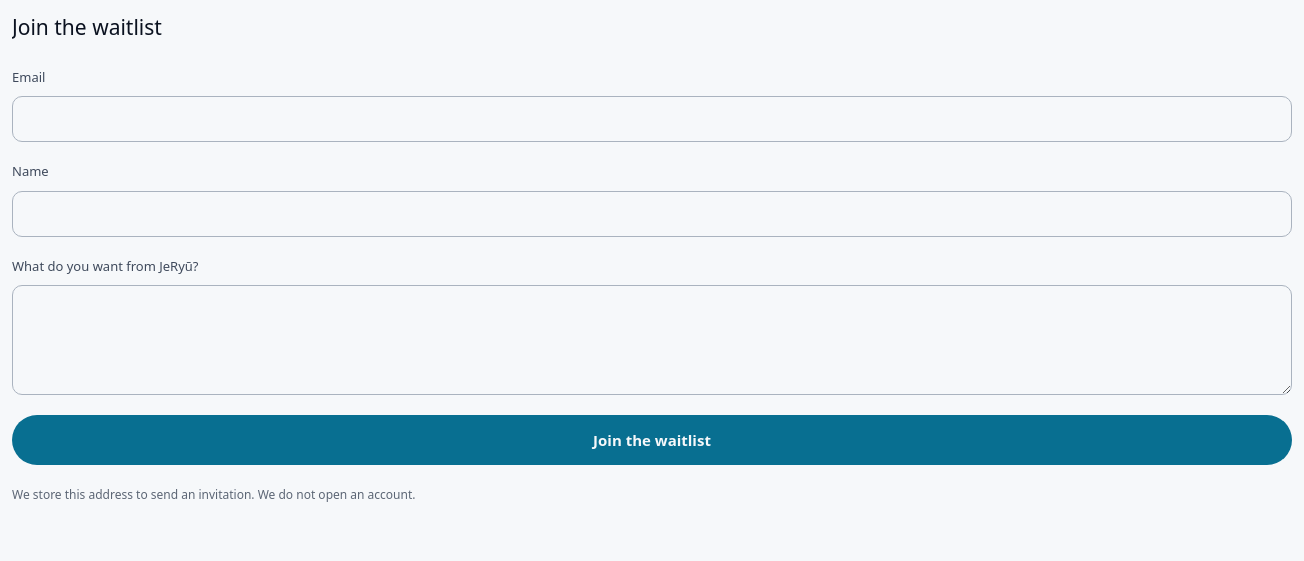
Scenario: WaitlistForm › does not post an empty email
Click the button "Join the waitlist".
click(652, 440)  # box left=12, top=415, right=1292, bottom=465
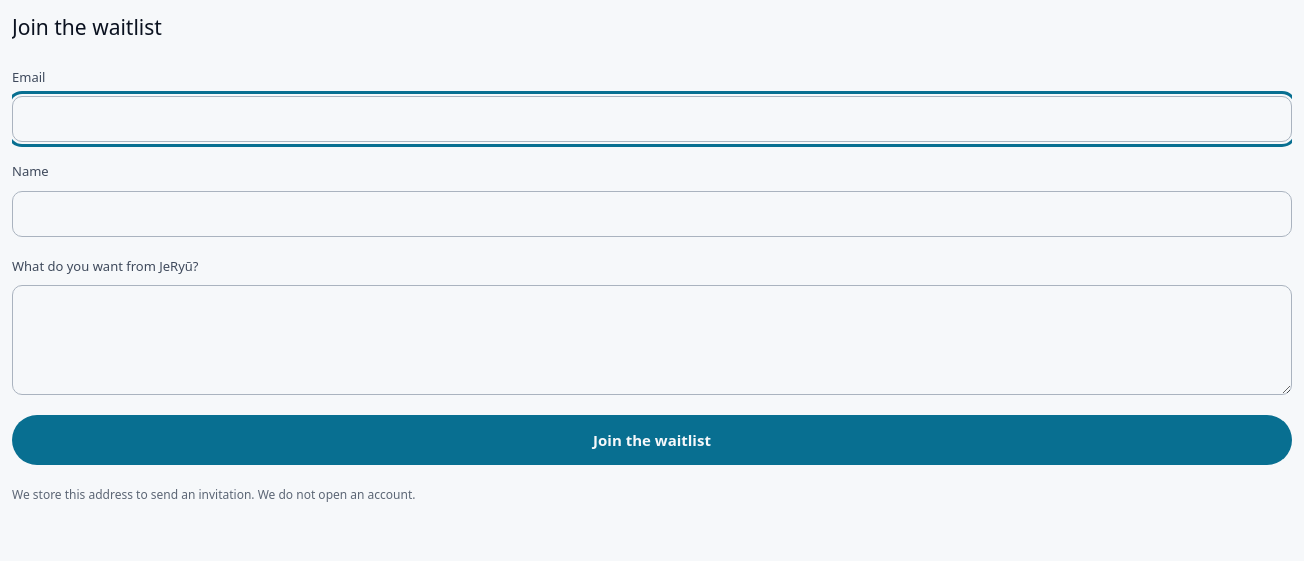
Submit the form "Join the waitlist"
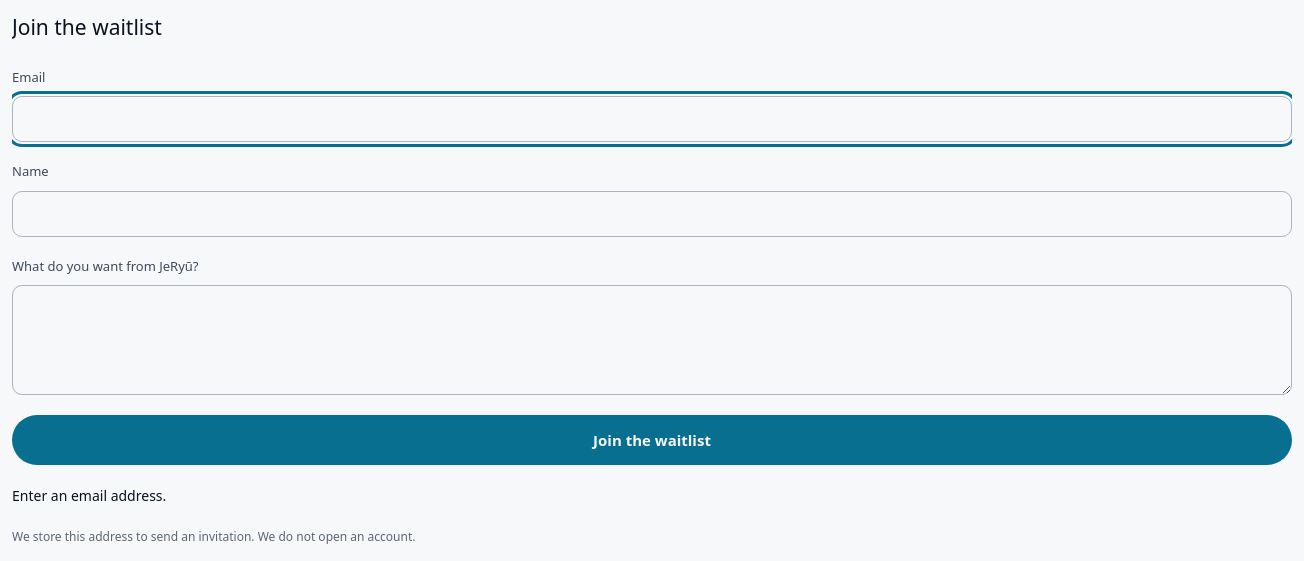
Check: the message reads "Enter an email address.", box left=12, top=486, right=166, bottom=505
